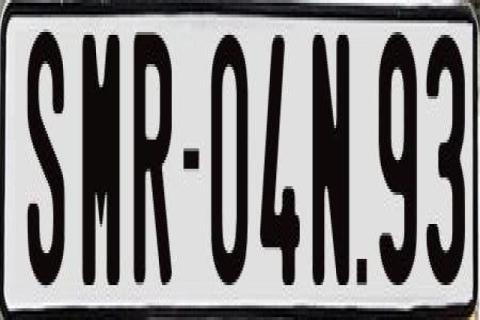0: (376, 32, 422, 288), (258, 35, 301, 291), (424, 27, 462, 286), (207, 32, 244, 282)
M: (80, 32, 123, 291)
N: (310, 35, 352, 303)
R: (132, 27, 177, 286)
S: (27, 32, 65, 296)
